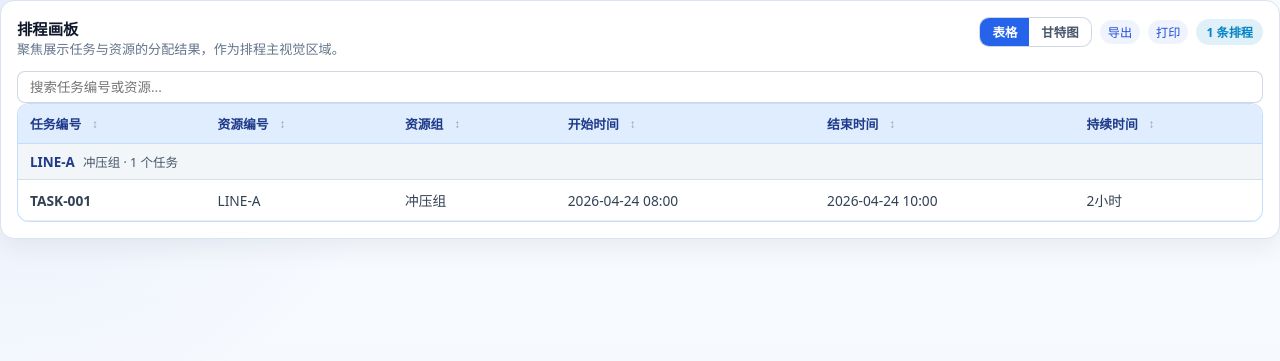
Test: ScheduleBoard › 点击甘特图任务条显示详情面板
The width and height of the screenshot is (1280, 361).
Click the button with test id "view-mode-gantt" at (1060, 32), box x1=1029 y1=18 x2=1091 y2=46
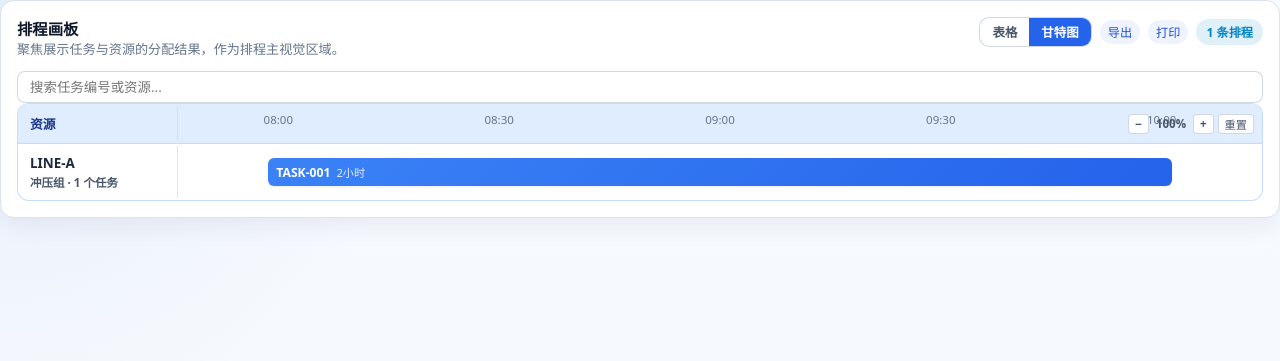
Click the element with test id "gantt-bar-TASK-001" at (720, 172), box x1=268 y1=158 x2=1172 y2=186
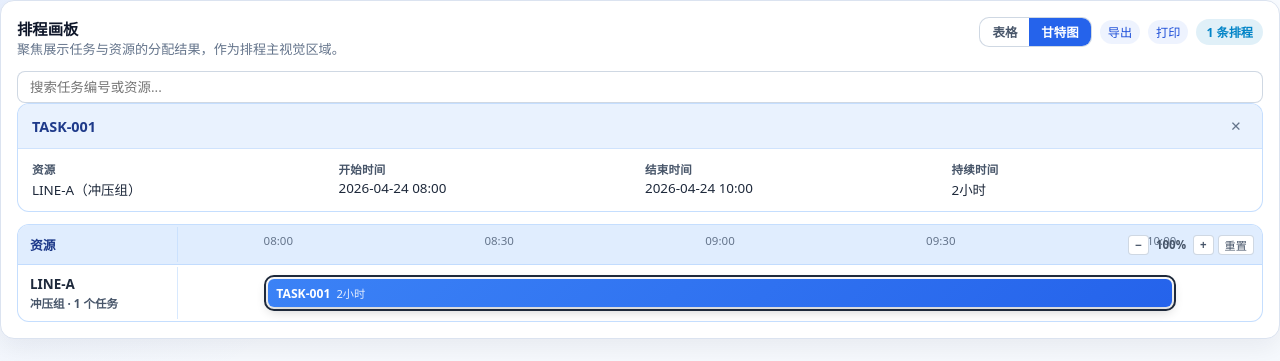
Result: the element with test id "gantt-detail-panel" is shown at x1=17 y1=103 x2=1263 y2=212
Result: the element with test id "gantt-detail-panel" shows "TASK-001" at x1=32 y1=116 x2=96 y2=136
Result: the element with test id "gantt-detail-panel" shows "LINE-A" at x1=32 y1=181 x2=141 y2=199
